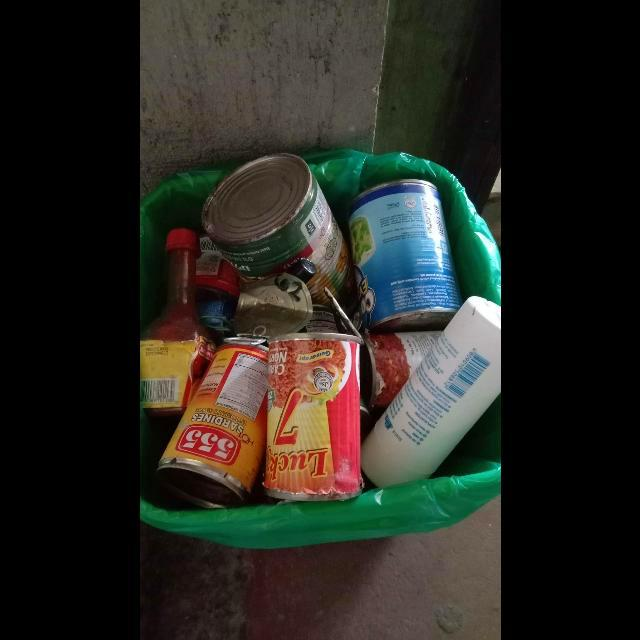aluminum: (200, 153, 356, 301), (262, 288, 365, 502), (154, 338, 268, 508), (347, 179, 462, 334), (366, 331, 442, 419), (232, 274, 312, 340)
plastic_container: (360, 297, 501, 488), (139, 229, 214, 419)
